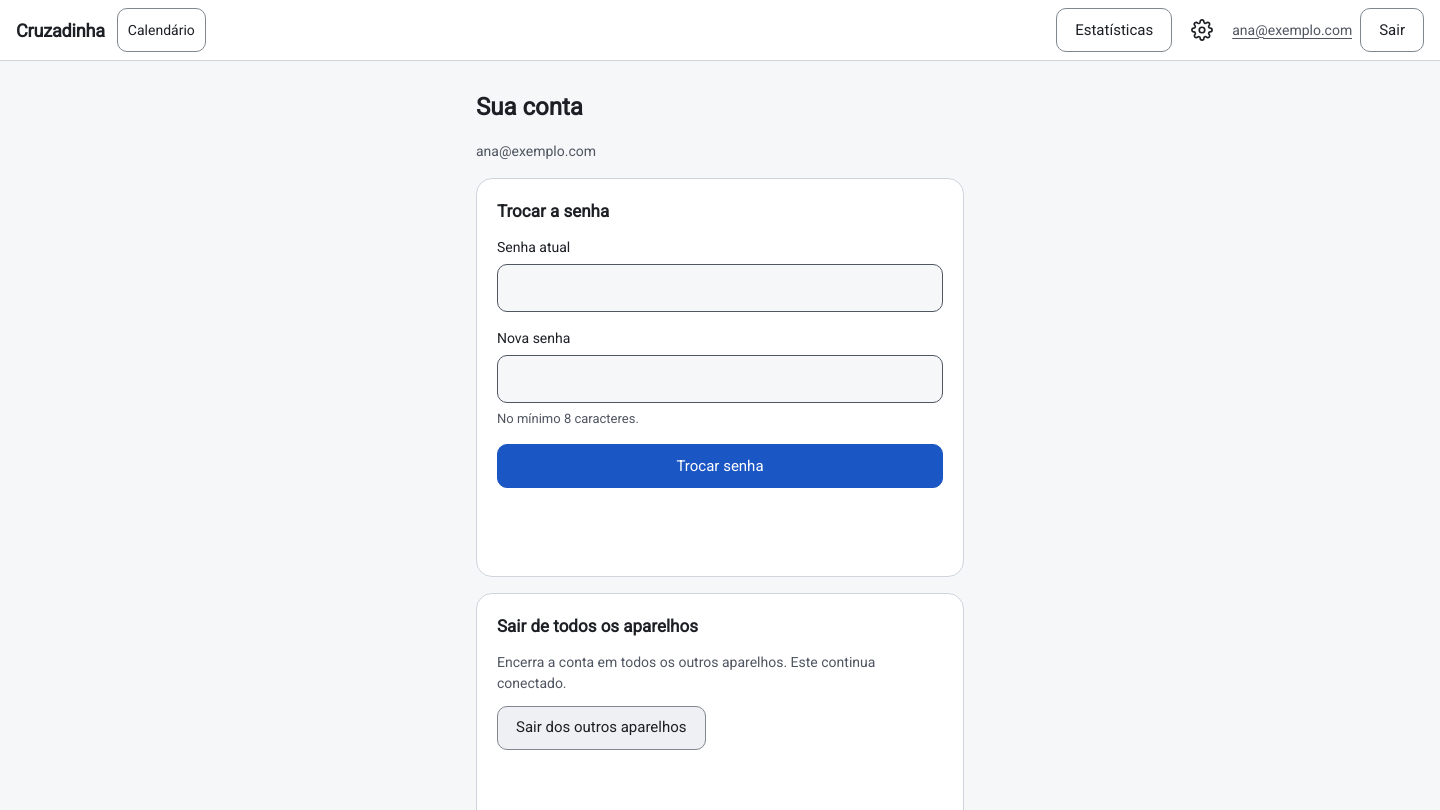
Test case: AccountPage › logs out the other devices
Click the button "Sair dos outros aparelhos": (601, 728) [497,706,706,750]
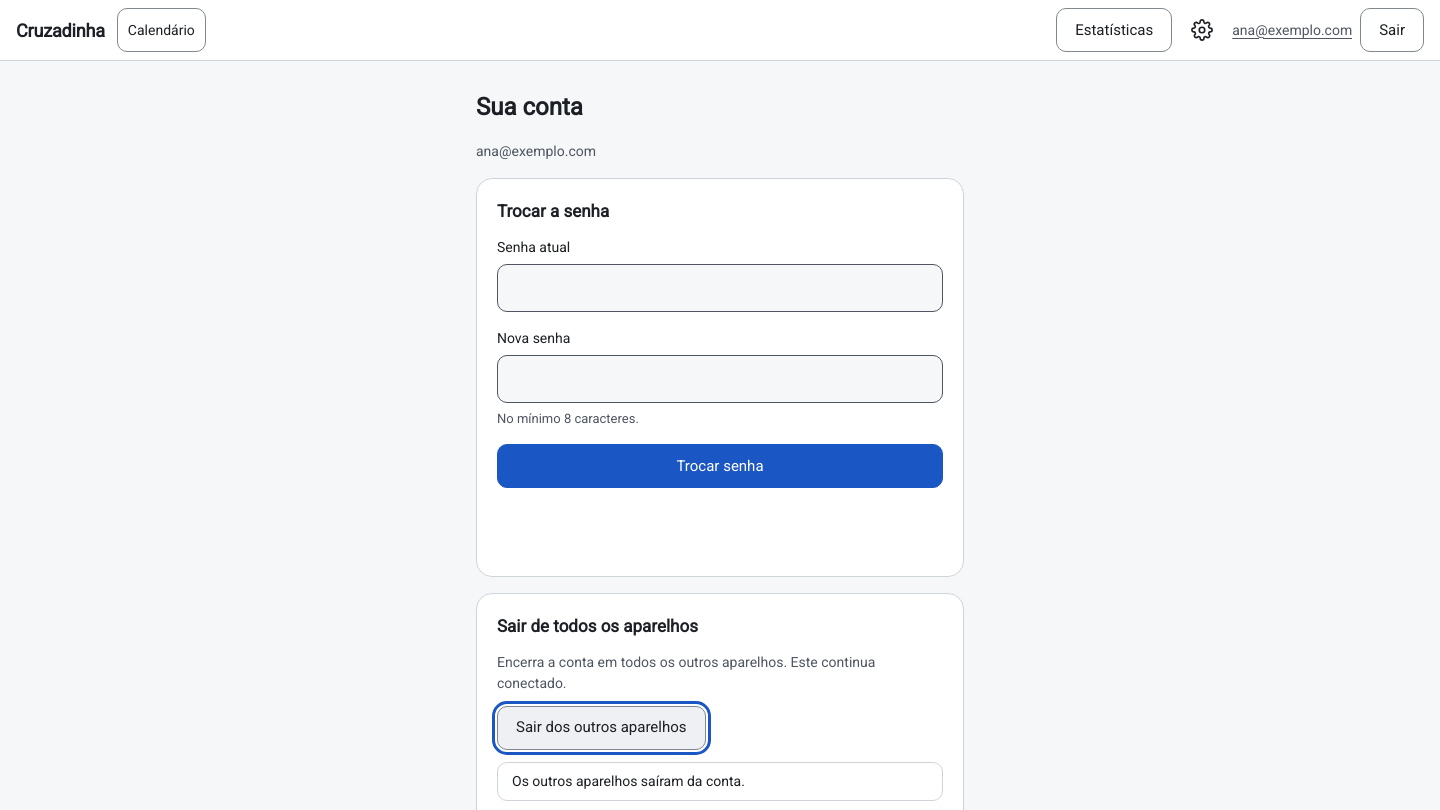
Result: the text "Os outros aparelhos saíram da conta." is shown at [512,772,745,788]
